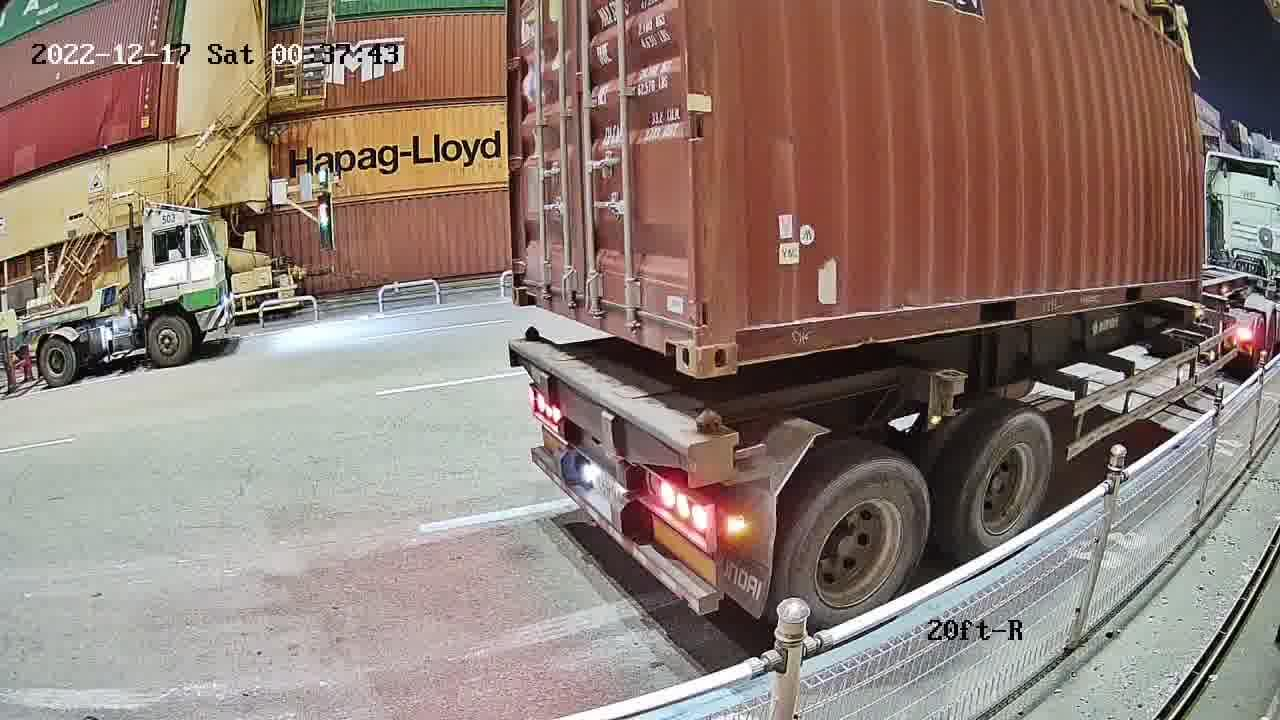Chassis: (509, 336, 740, 484)
Cone: (690, 410, 731, 483), (519, 322, 544, 352)
Hole_L: (698, 301, 769, 376), (510, 265, 547, 307)
Hole_R: (649, 295, 701, 380)
Tire: (791, 460, 928, 625), (962, 411, 1053, 550)
